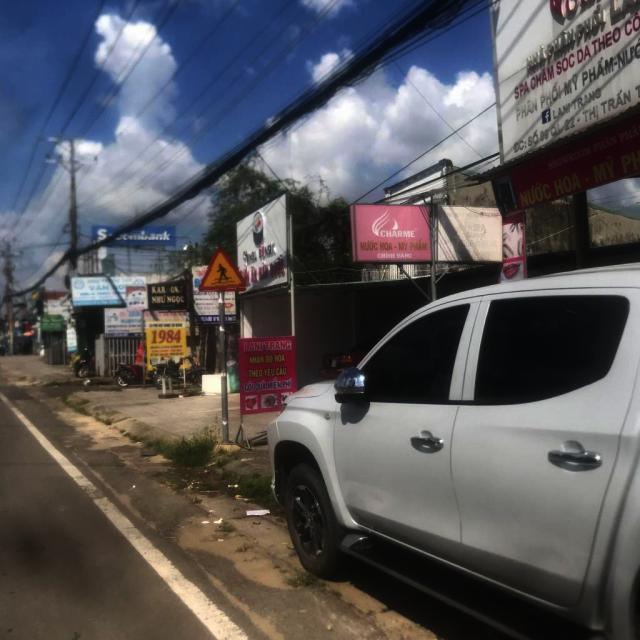224-duong-nguoi-di-bo-cat-ngang: (200, 248, 248, 292)
